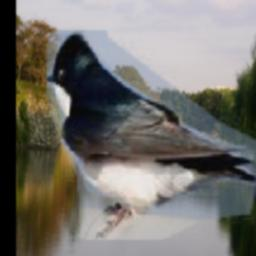Swallow: (46, 31, 256, 241)
